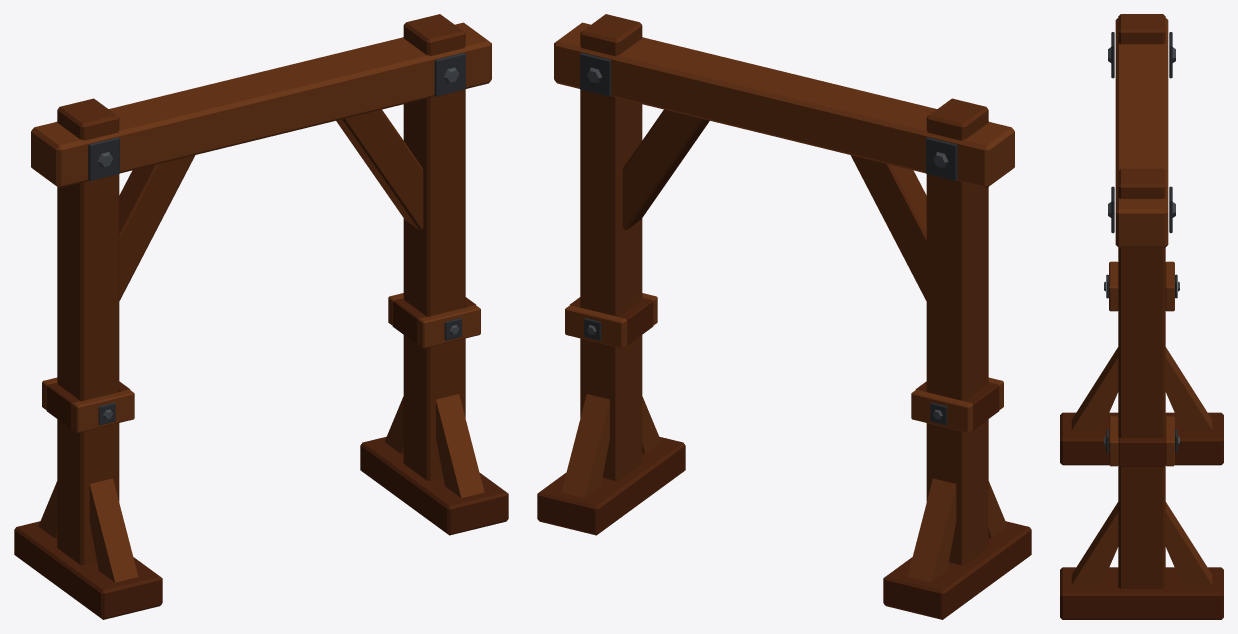
Rendered from Timber Support Frame.obj.
3 views of the same model, side by side, from view 1: azimuth 30°, elevation 25°; view 2: azimuth 150°, elevation 25°; view 3: azimuth 270°, elevation 25° (orthographic). The views are drawn at different scales.
Parts seen in each view (by area): view 1: Timber_Support_Frame.Static; view 2: Timber_Support_Frame.Static; view 3: Timber_Support_Frame.Static.
Boxes of the visible parts, <box> form: Timber_Support_Frame.Static: <box>14,14,508,619</box>; Timber_Support_Frame.Static: <box>537,14,1031,619</box>; Timber_Support_Frame.Static: <box>1060,14,1223,619</box>.
Bounding box in the file's own units: 2.62 × 2.7 × 0.93.
